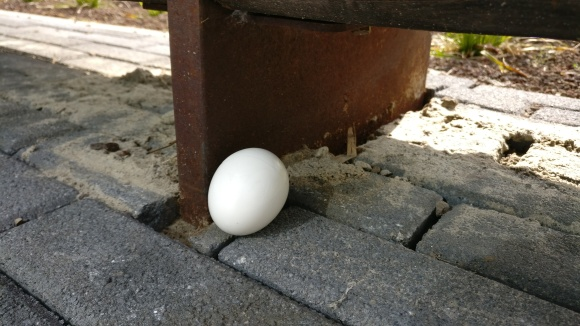egg: (205, 146, 291, 237)
